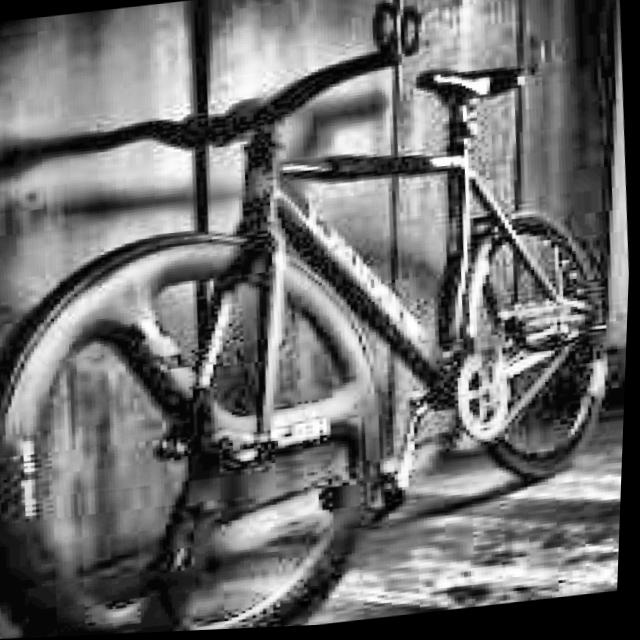bike: (0, 6, 639, 640)
